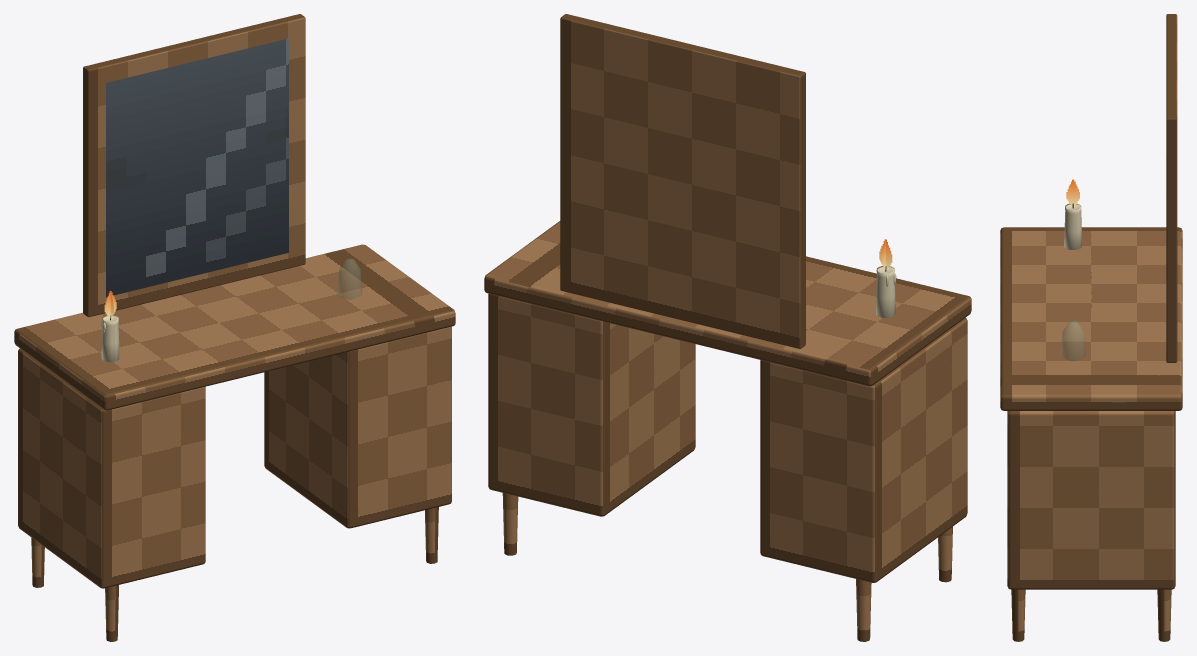
Rendered from vanity.glb.
3 views of the same model, side by side, from view 1: azimuth 30°, elevation 25°; view 2: azimuth 150°, elevation 25°; view 3: azimuth 270°, elevation 25° (orthographic). The views are drawn at different scales.
Parts seen in each view (by area): view 1: dyn_wood_variant, vanity; view 2: dyn_wood_variant, vanity; view 3: dyn_wood_variant, vanity.
Part boxes in pixels (x1,y1,x2,y2): dyn_wood_variant: [14, 14, 455, 641]; vanity: [101, 38, 361, 362]; dyn_wood_variant: [484, 14, 971, 641]; vanity: [876, 239, 896, 317]; dyn_wood_variant: [1000, 14, 1182, 641]; vanity: [1061, 179, 1085, 361].
Size of the model in its own units: 1.1 by 1.5 by 0.5001.
Materials: 6 (4 with a texture image).
